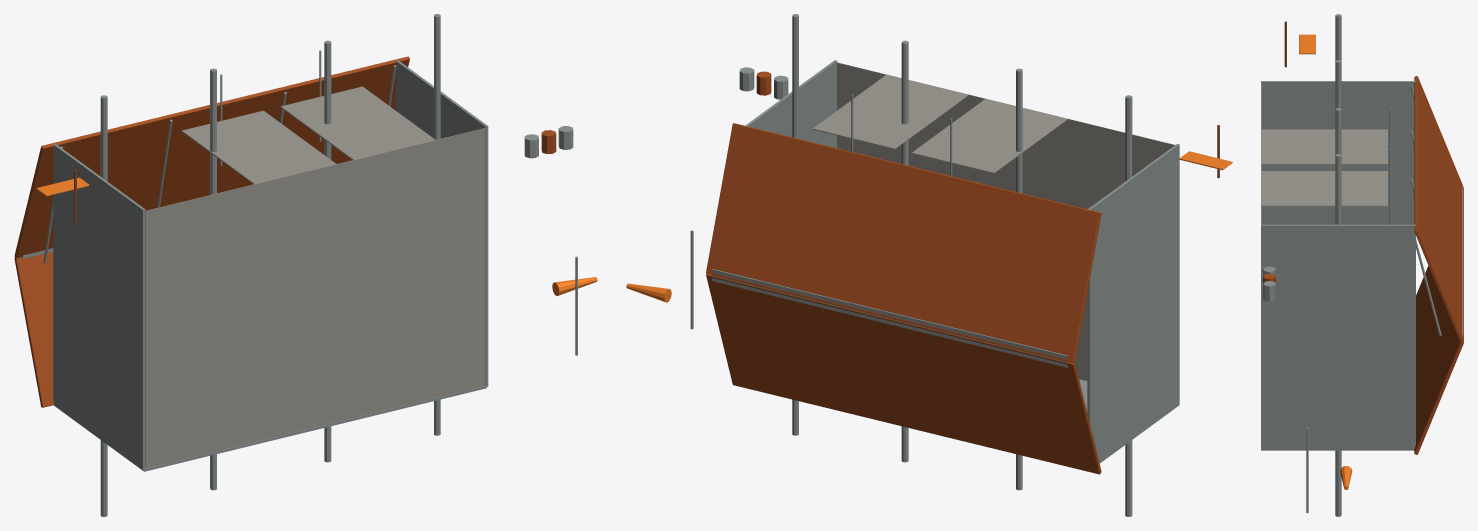
File: field_hangar_hero.glb
The picture shows the model from 3 angles, left to right: view 1: azimuth 30°, elevation 25°; view 2: azimuth 150°, elevation 25°; view 3: azimuth 270°, elevation 25°; orthographic projection. The views are drawn at different scales.
Visible parts, largest first — view 1: floor_slab.001, side_wall.002, roof_panel.003, sliding_door.003, sliding_door.002, side_wall.003, roof_panel.002, back_wall.001, frame_post_front.007, frame_post_front.005, frame_post_front.006, frame_post_front.004; view 2: roof_panel.003, roof_panel.002, side_wall.002, floor_slab.001, sliding_door.002, sliding_door.003, ridge_cap.001, side_wall.003, frame_post_front.007, frame_post_front.006, frame_post_front.005; view 3: side_wall.003, side_wall.002, roof_panel.003, roof_panel.002, sliding_door.002, sliding_door.003, frame_post_front.007, frame_post_back.007, sign_board, frame_post_front.005, frame_post_front.004, frame_post_front.006 (+4 smaller).
Boxes of the visible parts, x1,y1,x2,y2 form: floor_slab.001: (145,128,485,468); side_wall.002: (53,143,145,470); roof_panel.003: (14,56,409,258); sliding_door.003: (280,86,435,160); sliding_door.002: (181,110,336,184); side_wall.003: (395,60,488,386); roof_panel.002: (14,252,53,407); back_wall.001: (143,385,486,471); frame_post_front.007: (434,14,440,139); frame_post_front.005: (210,68,216,194); frame_post_front.006: (324,40,331,159); frame_post_front.004: (100,95,107,181); roof_panel.003: (706,123,1101,362); roof_panel.002: (706,273,1101,474); side_wall.002: (1087,143,1179,463); floor_slab.001: (837,62,1174,380); sliding_door.002: (912,99,1067,173); sliding_door.003: (813,75,968,149); ridge_cap.001: (712,269,1067,367); side_wall.003: (745,60,837,147); frame_post_front.007: (792,14,798,138); frame_post_front.006: (901,40,908,165); frame_post_front.005: (1016,68,1022,193); side_wall.003: (1261,224,1415,449); side_wall.002: (1261,81,1415,224); roof_panel.003: (1414,76,1463,342); roof_panel.002: (1414,266,1463,454); sliding_door.002: (1261,129,1387,164); sliding_door.003: (1261,171,1387,206); frame_post_front.007: (1335,154,1341,224); frame_post_back.007: (1335,450,1341,516); sign_board: (1299,34,1315,54); frame_post_front.005: (1335,60,1341,108); frame_post_front.004: (1335,14,1341,60); frame_post_front.006: (1335,108,1341,154).
Size of the model in its own units: 37.1 by 25.7 by 13.1.
